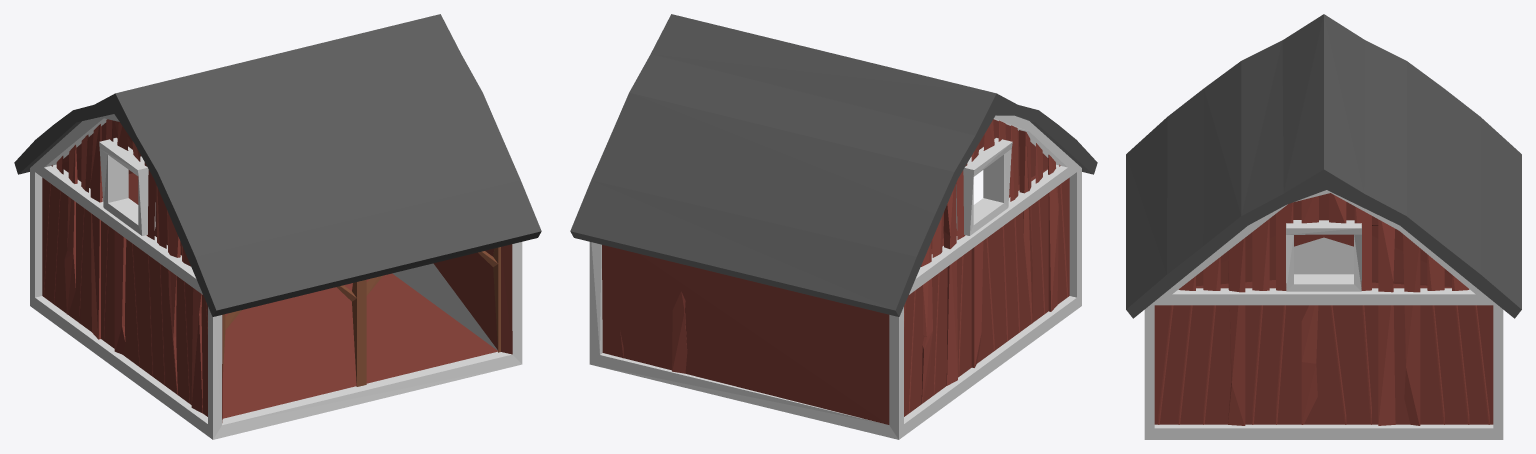
Rendered from OpenBarn.lod1.glb.
3 renders of one model, left to right at view 1: azimuth 30°, elevation 25°; view 2: azimuth 150°, elevation 25°; view 3: azimuth 270°, elevation 25°, orthographic. The views are drawn at different scales.
Parts seen in each view (by area): view 1: OpenBarn; view 2: OpenBarn; view 3: OpenBarn.
Boxes of the visible parts, left/top/right/bottom form: OpenBarn: left=14, top=14, right=541, bottom=439; OpenBarn: left=570, top=14, right=1097, bottom=439; OpenBarn: left=1126, top=14, right=1521, bottom=439.
Size of the model in its own units: 5.74 by 4.74 by 6.18.
